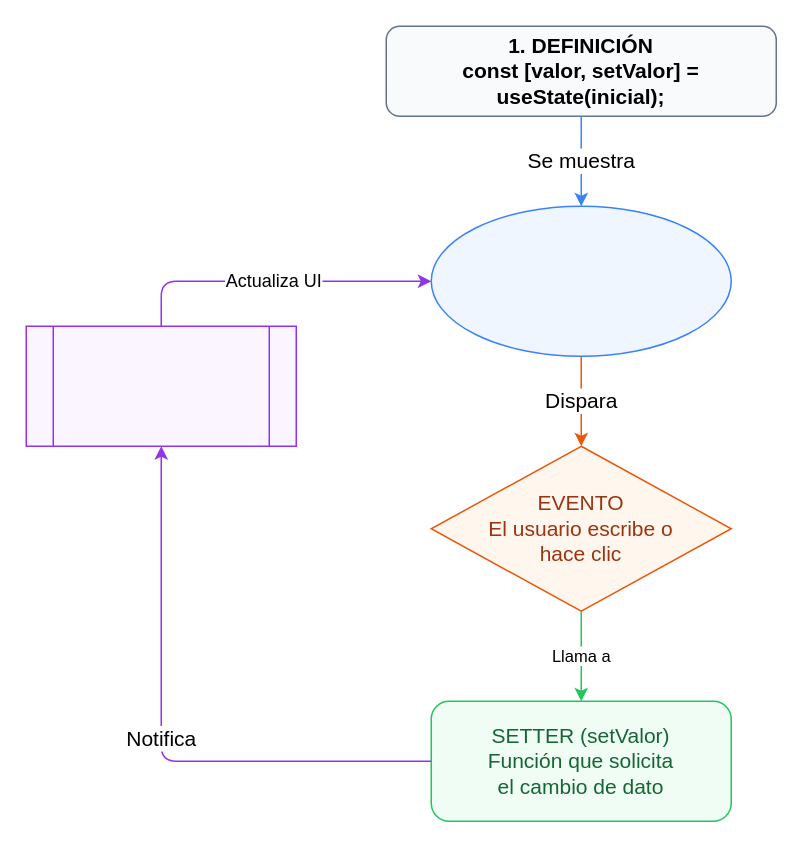
The diagram is 803 pixels wide and 848 high, and some of its shapes have lost their labels. Here are the shapes that lost their labels. From the top down, the box of each, then its label:
(430, 205, 731, 356): ESTADO ACTUAL (valor) Se muestra en la pantalla (ej: 'Juan')
(25, 325, 296, 446): RE-RENDER React detecta el cambio y vuelve a dibujar la UI
